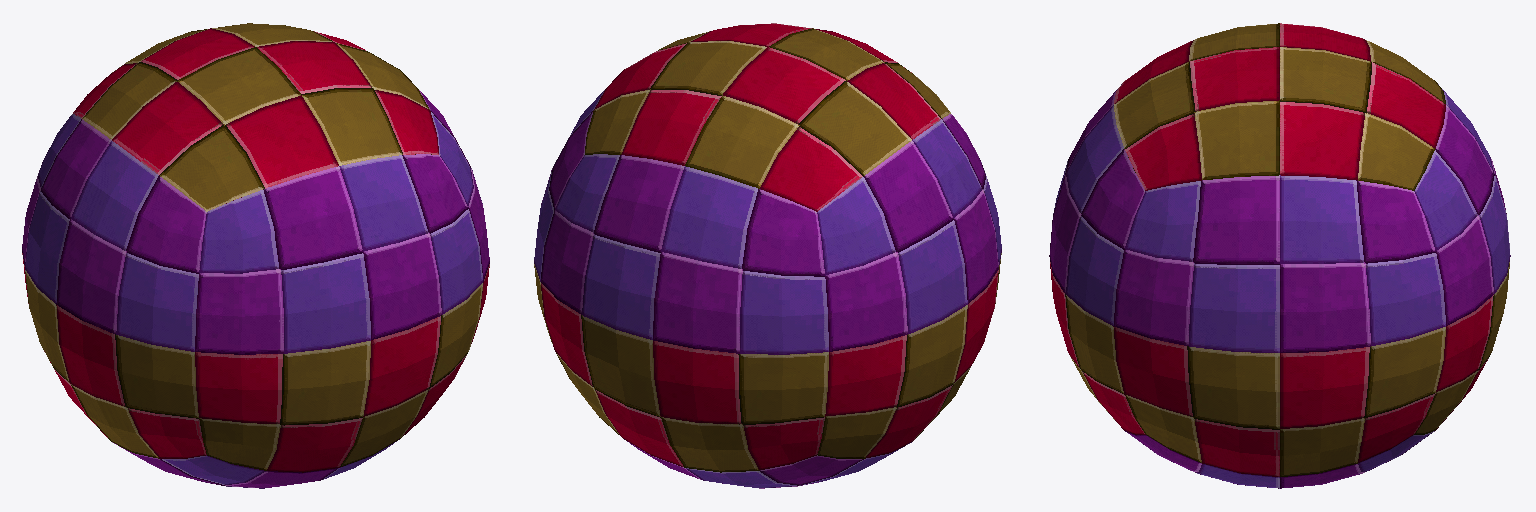
3 views of the same model, side by side, from view 1: azimuth 30°, elevation 25°; view 2: azimuth 150°, elevation 25°; view 3: azimuth 270°, elevation 25° (orthographic).
Visible parts, largest first — view 1: mesh-1_meshId1_name; view 2: mesh-1_meshId1_name; view 3: mesh-1_meshId1_name.
Part boxes in pixels (x1,y1,x2,y2): mesh-1_meshId1_name: (22, 23, 489, 488); mesh-1_meshId1_name: (534, 23, 1001, 488); mesh-1_meshId1_name: (1049, 23, 1510, 488).
Bounding box in the file's own units: 1581 × 1581 × 1581.
2 materials, 2 textured.